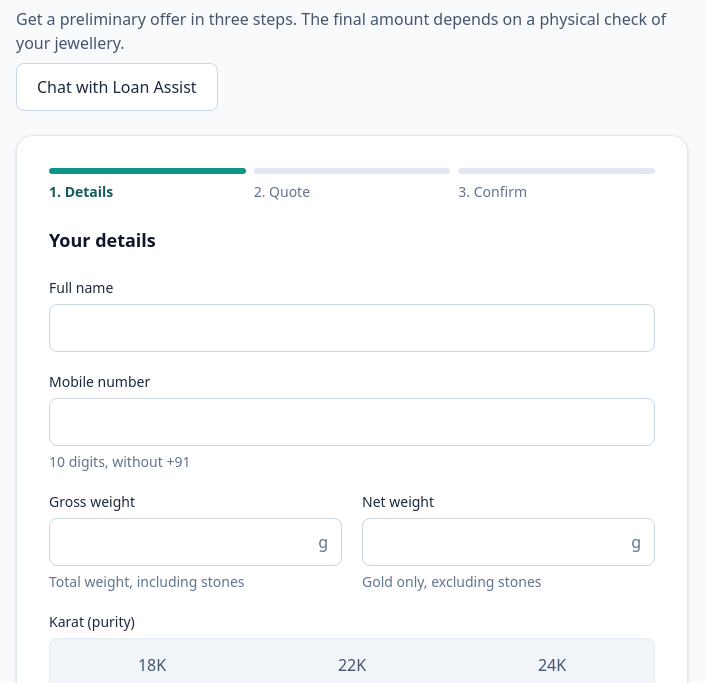
Test: Apply step 1 (Details) › enables Next only when every field is valid
Type "Ravi Kumar" into the field labelled "Full name" at (352, 328), box [49,304,655,352]
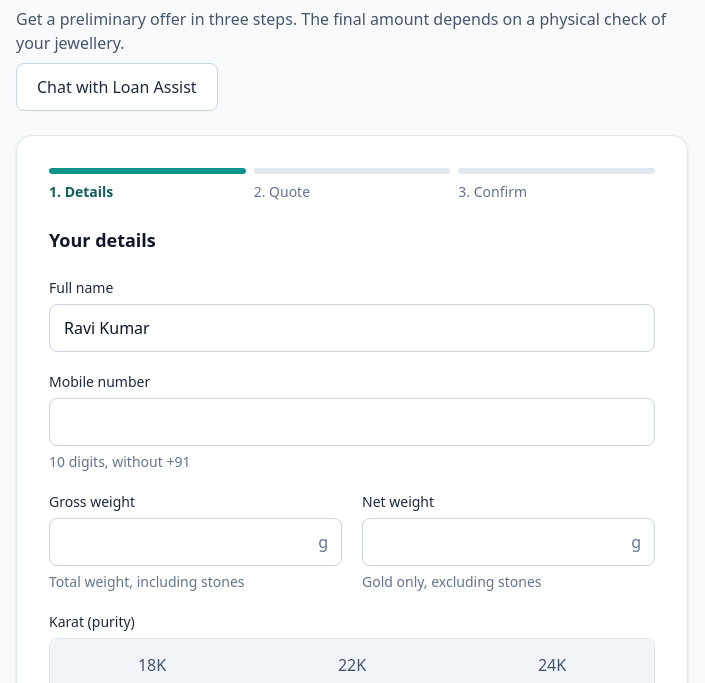
Type "9876543210" into the field labelled "Mobile number" at (352, 422), box [49,398,655,446]
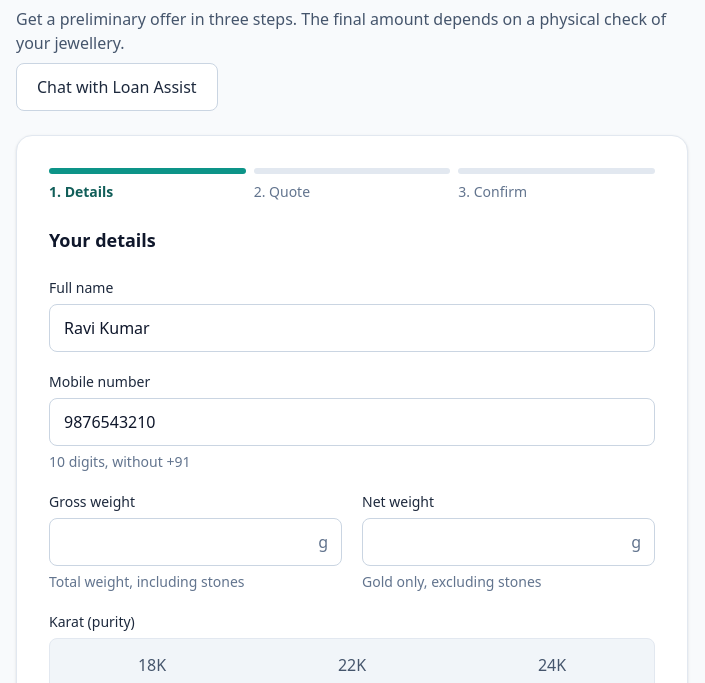
Type "50" into the field labelled "Gross weight" at (196, 542), box [49,518,342,566]
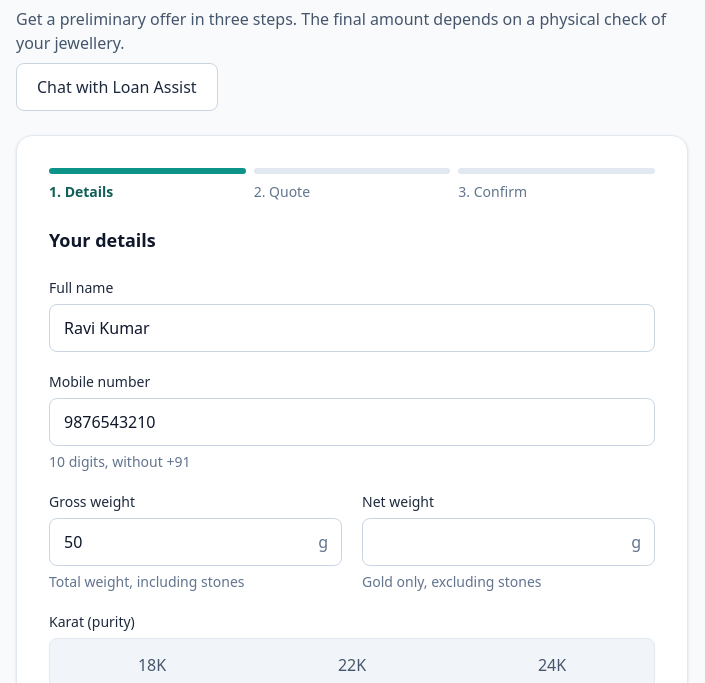
Type "45" into the field labelled "Net weight" at (508, 542), box [362,518,655,566]
(page scrolled)
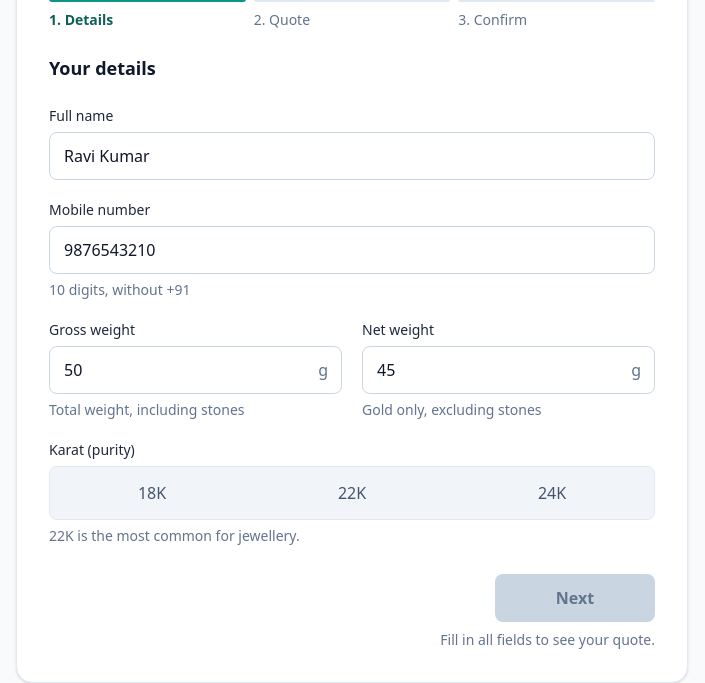
Click the radio button labelled "22K" at (352, 493), box [338,482,366,504]
(page scrolled)
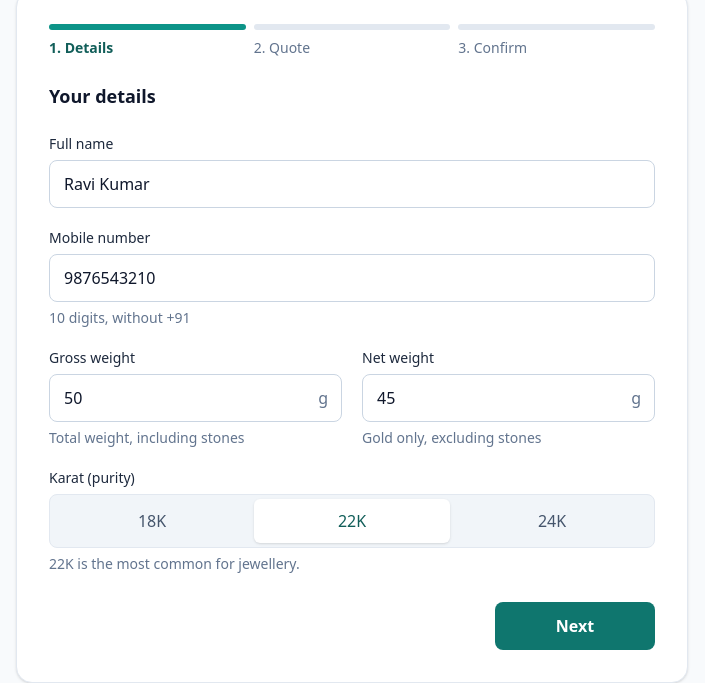
Check: the button "Next" is enabled, box [495,602,655,650]
